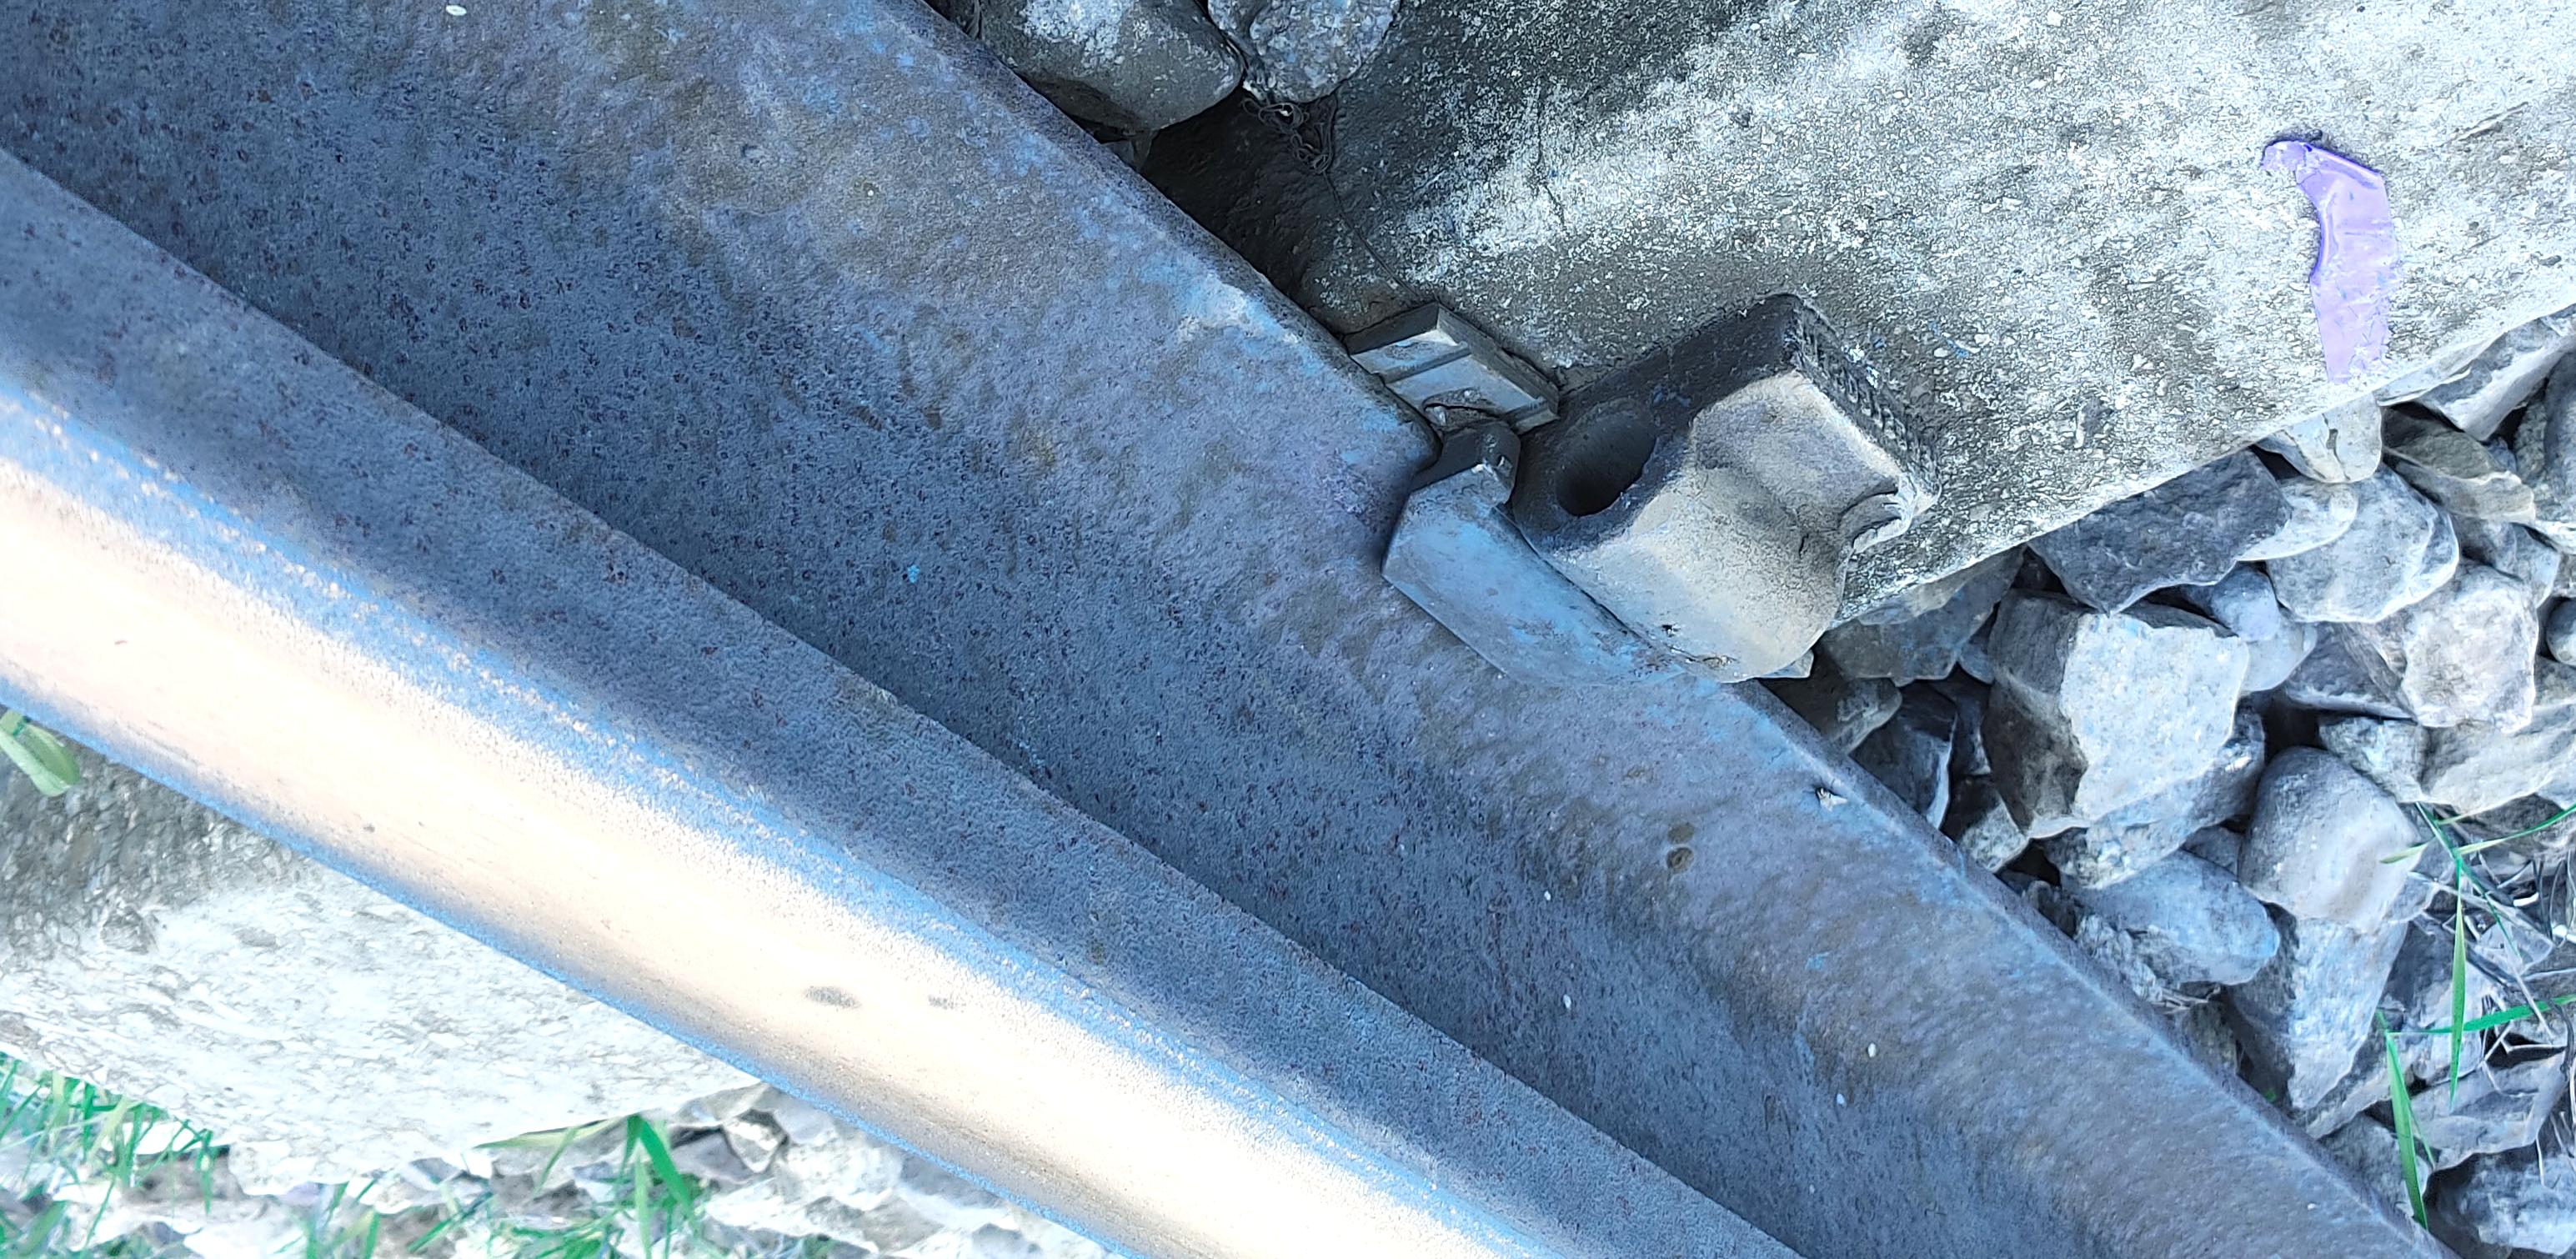error1: (1360, 301, 2014, 799)
